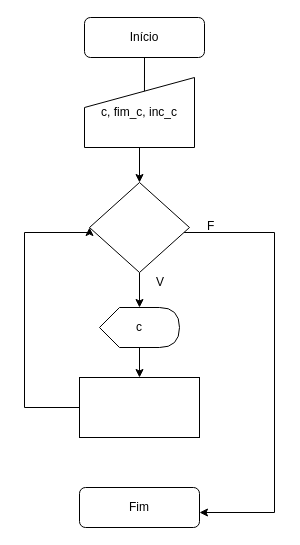
Image size: 300x545. Some labels were removed from this diagram. The box of each missing label's shape, as (x1, y1, x2, y2) in pixels:
c <= fim_c: (88, 182, 190, 272)
c = c + inc_c: (78, 376, 200, 438)
